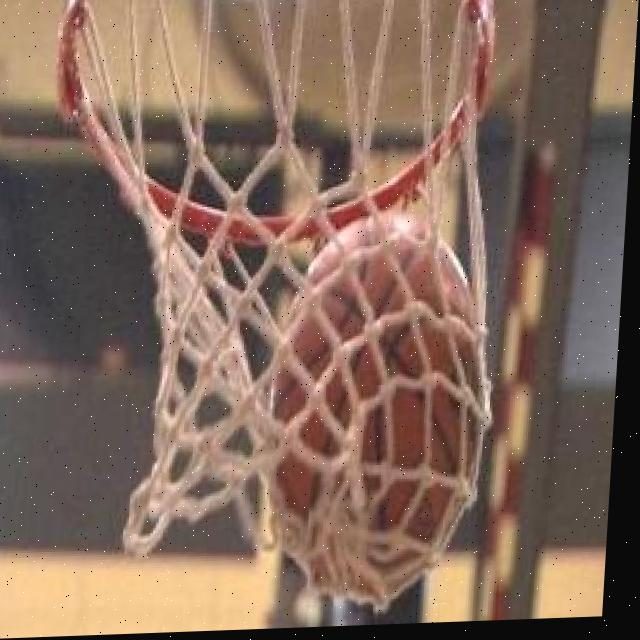Goal: (262, 211, 490, 597)
